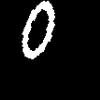chain: (22, 1, 54, 58)
